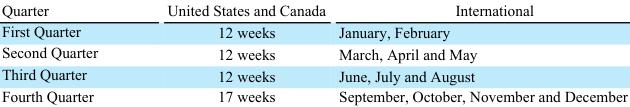table: (0, 1, 626, 104)
table column: (331, 1, 626, 104), (131, 1, 331, 104), (0, 1, 131, 104)
table column header: (0, 1, 626, 20)
table row: (0, 41, 626, 63), (0, 63, 626, 85), (0, 20, 626, 41), (0, 1, 626, 20), (0, 85, 626, 104)
